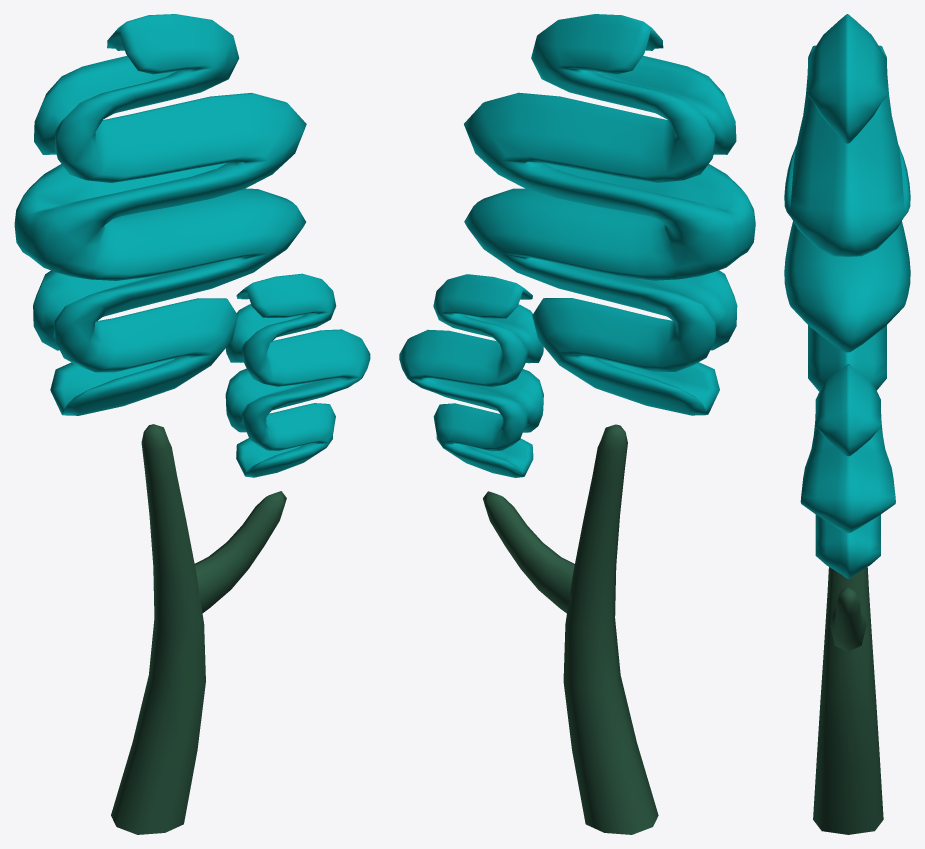
File: tree_floating_2.glb
3 renders of one model, left to right at view 1: azimuth 30°, elevation 25°; view 2: azimuth 150°, elevation 25°; view 3: azimuth 270°, elevation 25°, orthographic.
Visible parts, largest first — view 1: Tree_Floating_2; view 2: Tree_Floating_2; view 3: Tree_Floating_2.
Part boxes in pixels (left/top/right/bottom): Tree_Floating_2: left=14, top=14, right=370, bottom=834; Tree_Floating_2: left=399, top=14, right=755, bottom=834; Tree_Floating_2: left=784, top=14, right=910, bottom=834.
Bounding box in the file's own units: 2.63 × 5.87 × 0.843.
Materials: 1 (1 with a texture image).
